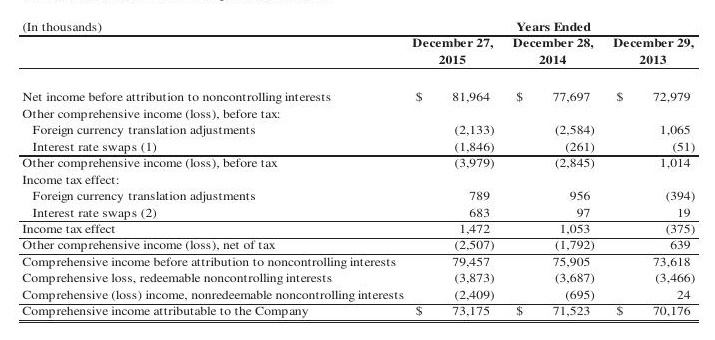table: (0, 0, 715, 340)
